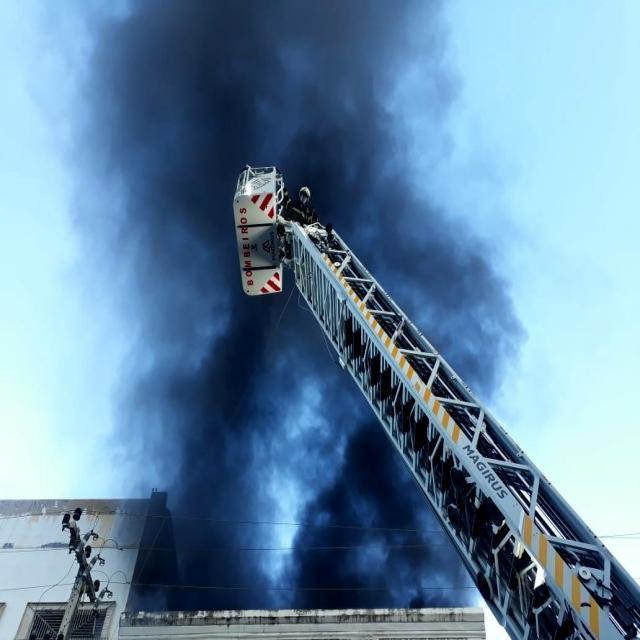Smoke: (74, 0, 464, 632)
